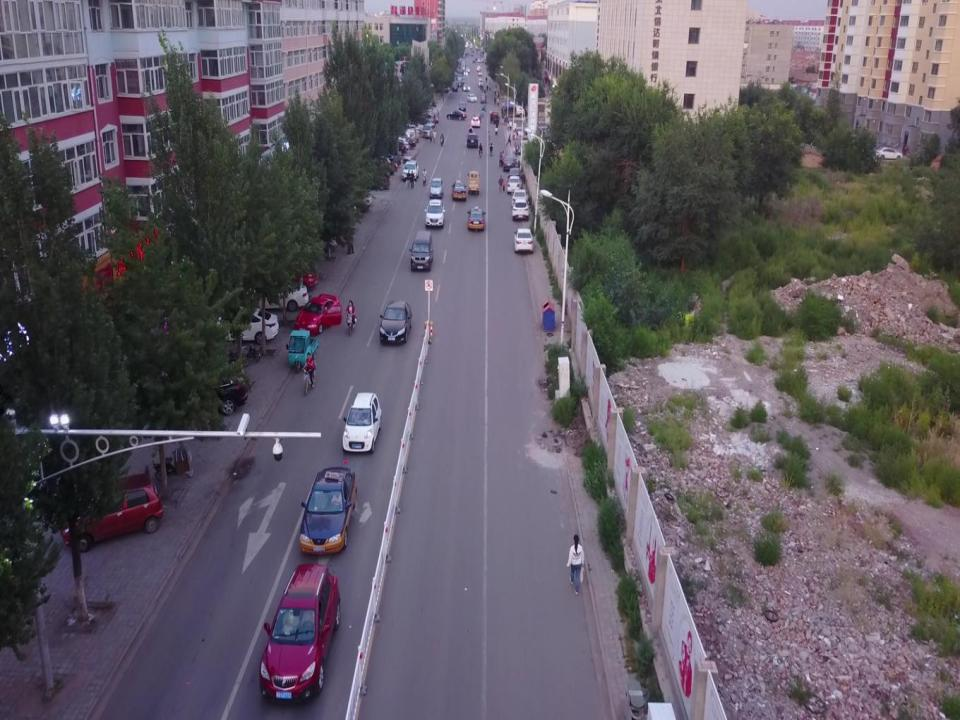car: (260, 564, 341, 704), (56, 472, 166, 548), (298, 467, 358, 557), (192, 375, 250, 417), (342, 393, 381, 452), (216, 305, 279, 341), (295, 293, 343, 334), (249, 282, 309, 312), (379, 301, 413, 347), (272, 262, 318, 289), (409, 230, 433, 274), (424, 198, 444, 226), (513, 225, 532, 252), (467, 204, 485, 229), (512, 197, 529, 219), (428, 178, 444, 198), (402, 160, 418, 180), (451, 180, 466, 200), (503, 102, 524, 115), (506, 175, 522, 192), (446, 109, 466, 121), (422, 122, 436, 138), (466, 132, 478, 150), (537, 118, 549, 133), (504, 156, 516, 170), (513, 187, 525, 200), (404, 129, 416, 141), (470, 115, 481, 128), (508, 167, 521, 177), (466, 93, 478, 102), (400, 138, 409, 147), (426, 111, 434, 121), (456, 73, 464, 81), (477, 78, 484, 87), (432, 111, 438, 121), (462, 85, 470, 90), (460, 59, 465, 65), (454, 85, 458, 91), (466, 67, 470, 73), (477, 64, 481, 70), (478, 71, 483, 75)
